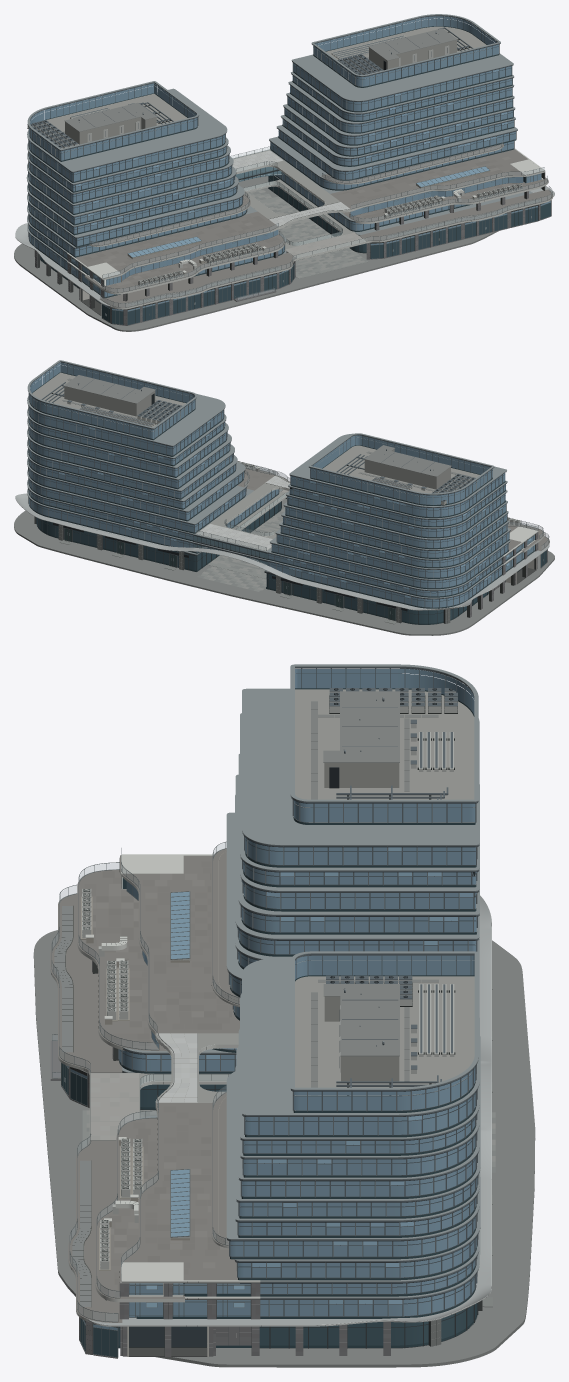
File: zijin-kechuang-v14-t1.glb
3 views of the same model, one above another, from view 1: azimuth 30°, elevation 25°; view 2: azimuth 150°, elevation 25°; view 3: azimuth 270°, elevation 25° (orthographic). The views are drawn at different scales.
Visible parts, largest first — view 1: C_Foundation__stone, B_L11_FloorBands__edge, B_L12_Glazing__glass0, A_背面_上层_屋面分仓与修补板, A_L12_Glazing__glass0, B_背面_上层_屋面分仓与修补板, A_L11_FloorBands__edge, A_背面_首层店面上方_一体退台板, V4_庭院灰石错缝铺装, B_背面_首层店面上方_一体退台板, B_L11_Glazing__glass0, B_L05_Glazing__glass0 (+95 smaller); view 2: C_Foundation__stone, A_L12_Glazing__glass0, B_L12_Glazing__glass0, B_L11_FloorBands__edge, B_L01_Glazing__glass0, A_L11_Glazing__glass0, A_L02_Glazing__glass0, A_L04_Glazing__glass0, A_L05_Glazing__glass0, A_L01_Glazing__glass0, B_L11_Glazing__glass0, A_L08_Glazing__glass0 (+95 smaller); view 3: C_Foundation__stone, A_L11_FloorBands__edge, A_RoofDeck__roof, B_RoofDeck__roof, A_背面_上层_屋面分仓与修补板, B_L11_FloorBands__edge, B_背面_上层_屋面分仓与修补板, A_L12_Glazing__glass0, B_L12_Glazing__glass0, A_Rooftop_MEP__stone, A_背面_中层_屋面分仓与修补板, B_Rooftop_MEP__stone (+75 smaller).
Boxes of the visible parts, x1,y1,x2,y2 form: C_Foundation__stone: [14, 176, 498, 331]; B_L11_FloorBands__edge: [291, 53, 513, 101]; B_L12_Glazing__glass0: [313, 16, 498, 86]; A_背面_上层_屋面分仓与修补板: [83, 214, 273, 271]; A_L12_Glazing__glass0: [29, 83, 197, 160]; B_背面_上层_屋面分仓与修补板: [336, 153, 522, 206]; A_L11_FloorBands__edge: [27, 88, 227, 171]; A_背面_首层店面上方_一体退台板: [99, 253, 296, 309]; V4_庭院灰石错缝铺装: [262, 198, 366, 277]; B_背面_首层店面上方_一体退台板: [359, 189, 552, 242]; B_L11_Glazing__glass0: [293, 63, 511, 110]; B_L05_Glazing__glass0: [278, 130, 515, 179]; C_Foundation__stone: [14, 498, 554, 635]; A_L12_Glazing__glass0: [310, 435, 492, 504]; B_L12_Glazing__glass0: [30, 362, 195, 438]; B_L11_FloorBands__edge: [27, 366, 225, 445]; B_L01_Glazing__glass0: [36, 501, 281, 570]; A_L11_Glazing__glass0: [291, 473, 505, 516]; A_L02_Glazing__glass0: [268, 562, 501, 607]; A_L04_Glazing__glass0: [272, 544, 508, 587]; A_L05_Glazing__glass0: [277, 532, 509, 577]; A_L01_Glazing__glass0: [266, 573, 488, 623]; B_L11_Glazing__glass0: [29, 407, 223, 455]; A_L08_Glazing__glass0: [285, 504, 505, 547]; C_Foundation__stone: [33, 930, 535, 1367]; A_L11_FloorBands__edge: [242, 688, 479, 845]; A_RoofDeck__roof: [294, 689, 474, 822]; B_RoofDeck__roof: [295, 976, 474, 1110]; A_背面_上层_屋面分仓与修补板: [135, 861, 231, 1029]; B_L11_FloorBands__edge: [242, 957, 479, 1115]; B_背面_上层_屋面分仓与修补板: [135, 1106, 231, 1274]; A_L12_Glazing__glass0: [294, 669, 475, 822]; B_L12_Glazing__glass0: [294, 955, 475, 1110]; A_Rooftop_MEP__stone: [311, 691, 438, 799]; A_背面_中层_屋面分仓与修补板: [84, 871, 160, 1045]; B_Rooftop_MEP__stone: [311, 979, 438, 1095].
Bounding box in the file's own units: 82 × 24.03 × 39.38.
